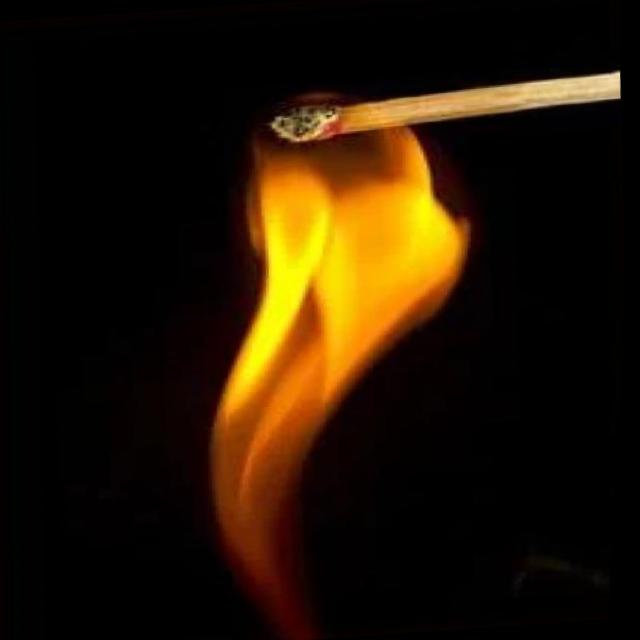Fire: (173, 85, 491, 640)
